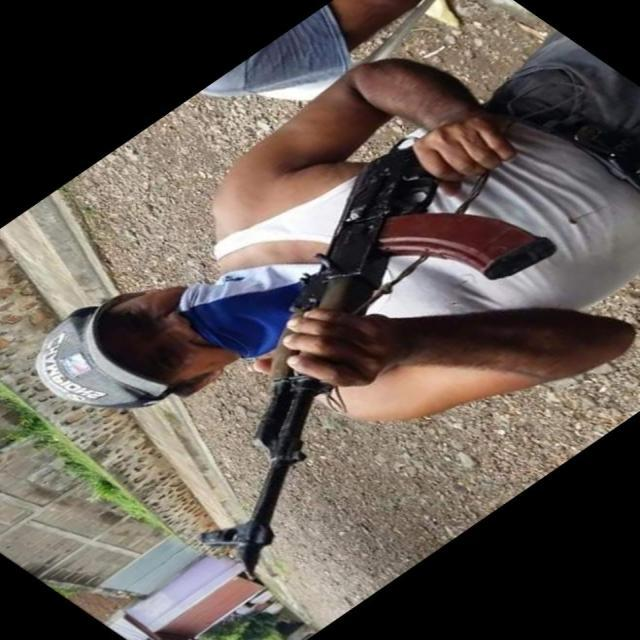weapon: (195, 136, 559, 577)
